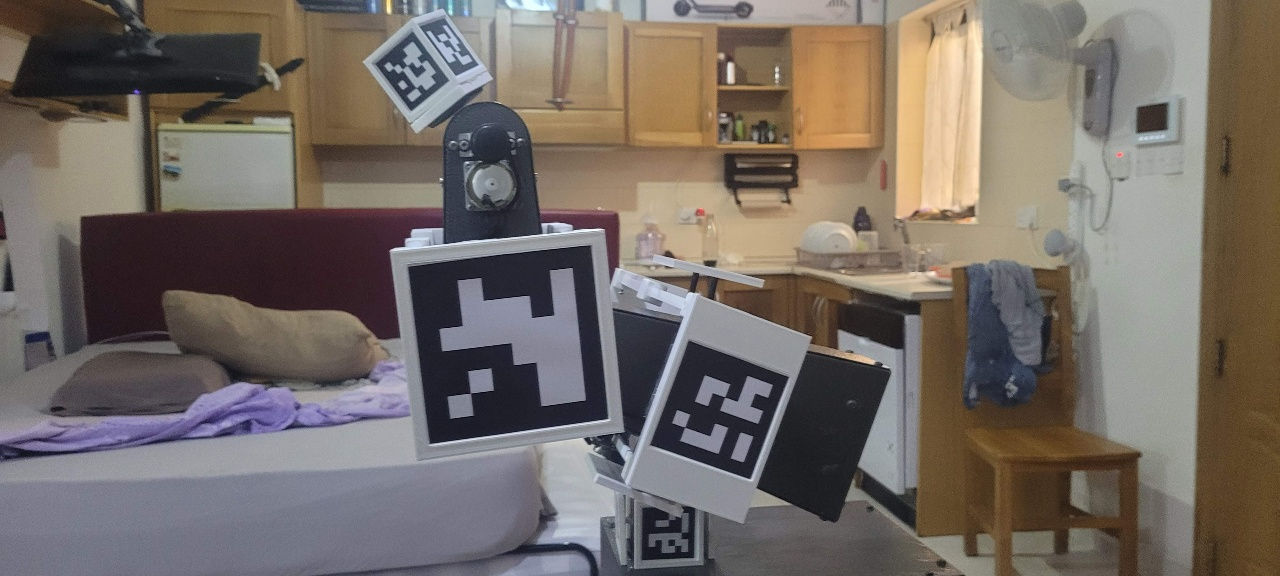Robot: (314, 10, 819, 576)
